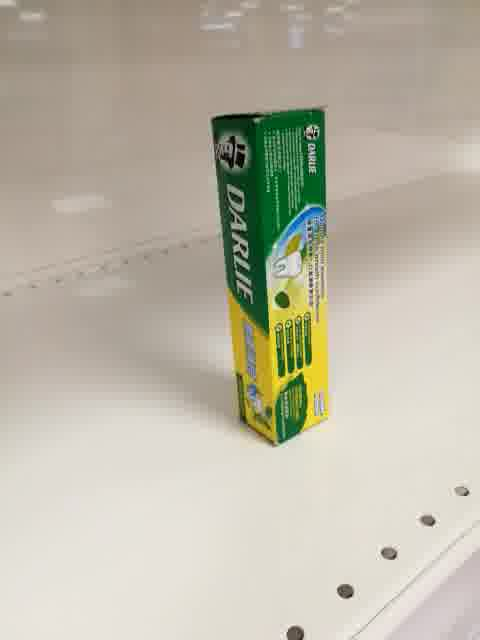toothpaste: (211, 105, 333, 447)
